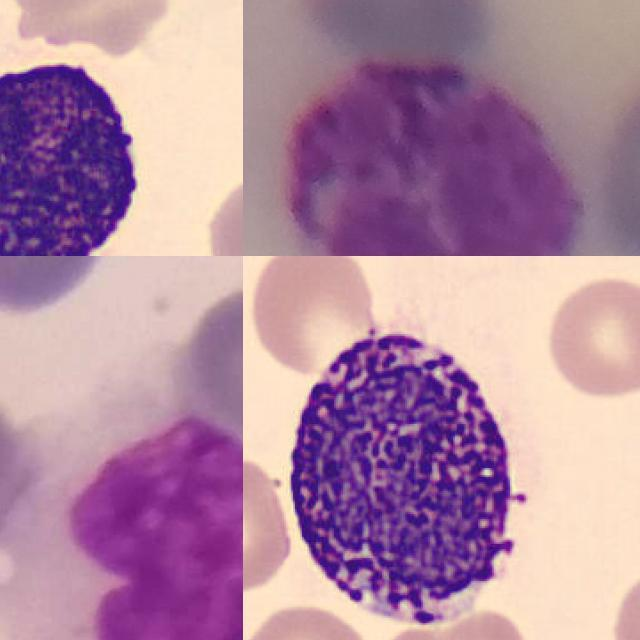Basophil: (272, 309, 544, 639), (279, 56, 590, 256), (0, 49, 154, 256)
Monocyte: (19, 412, 243, 640)
RBC: (243, 256, 378, 376), (541, 272, 640, 402), (243, 450, 295, 594), (243, 600, 376, 640), (376, 607, 533, 640), (199, 165, 243, 256)
